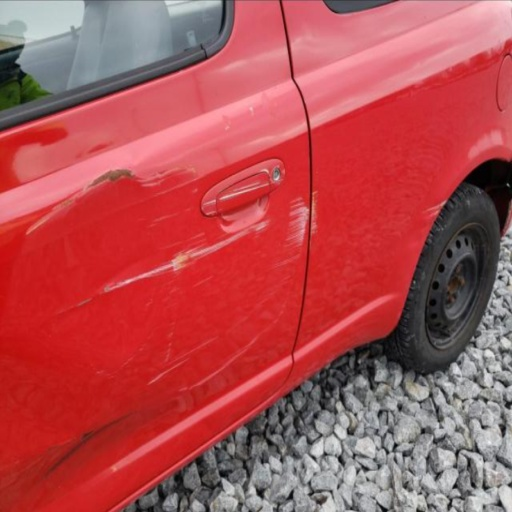dent: (51, 230, 198, 324), (43, 392, 176, 490), (212, 41, 286, 76)
rust: (83, 165, 139, 198)
scratch: (100, 217, 276, 298), (177, 327, 261, 393), (19, 187, 85, 239), (140, 164, 197, 191), (286, 196, 309, 250), (148, 207, 197, 232), (174, 332, 218, 359), (266, 289, 292, 334), (147, 359, 186, 386), (223, 180, 269, 202), (53, 293, 94, 315), (422, 198, 447, 218), (311, 189, 320, 241), (277, 252, 302, 269), (273, 274, 292, 295), (138, 333, 155, 354), (190, 274, 216, 287), (164, 322, 173, 359), (162, 286, 178, 305), (162, 242, 181, 253), (186, 230, 203, 242), (121, 353, 135, 365), (203, 196, 217, 207), (205, 207, 216, 219), (166, 304, 178, 313), (146, 299, 153, 309), (192, 186, 198, 196), (261, 168, 268, 175), (93, 369, 101, 375)
